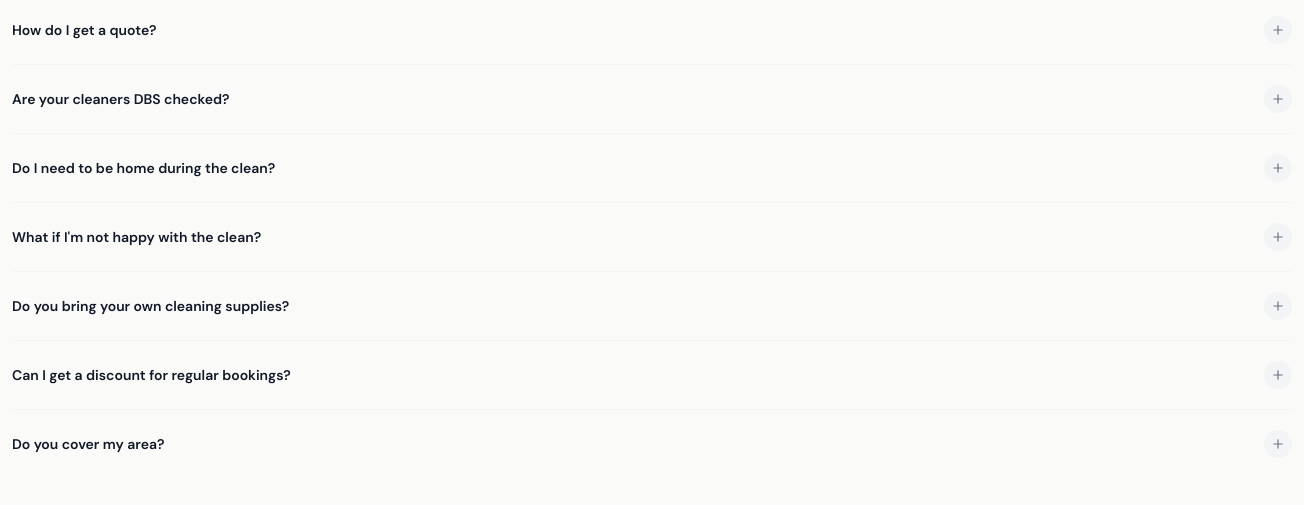
Scenario: FaqAccordion › collapses when clicked again
This screenshot has width=1304, height=505.
Click the button "How do I get a quote?": [84, 30] box left=12, top=16, right=1292, bottom=44
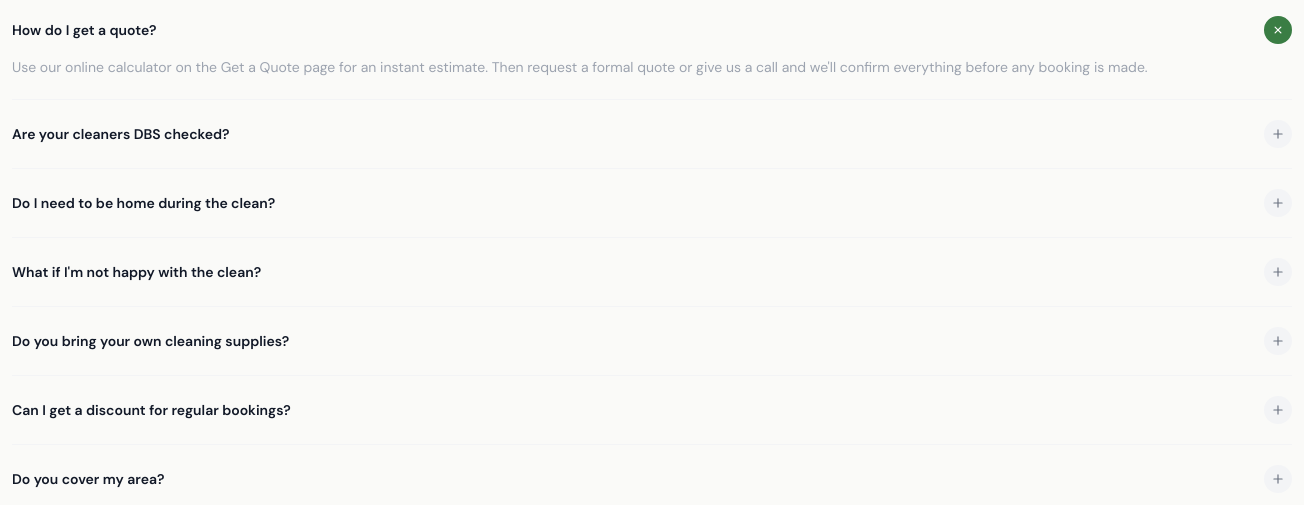
Click the button "How do I get a quote?": [84, 30] box left=12, top=16, right=1292, bottom=44
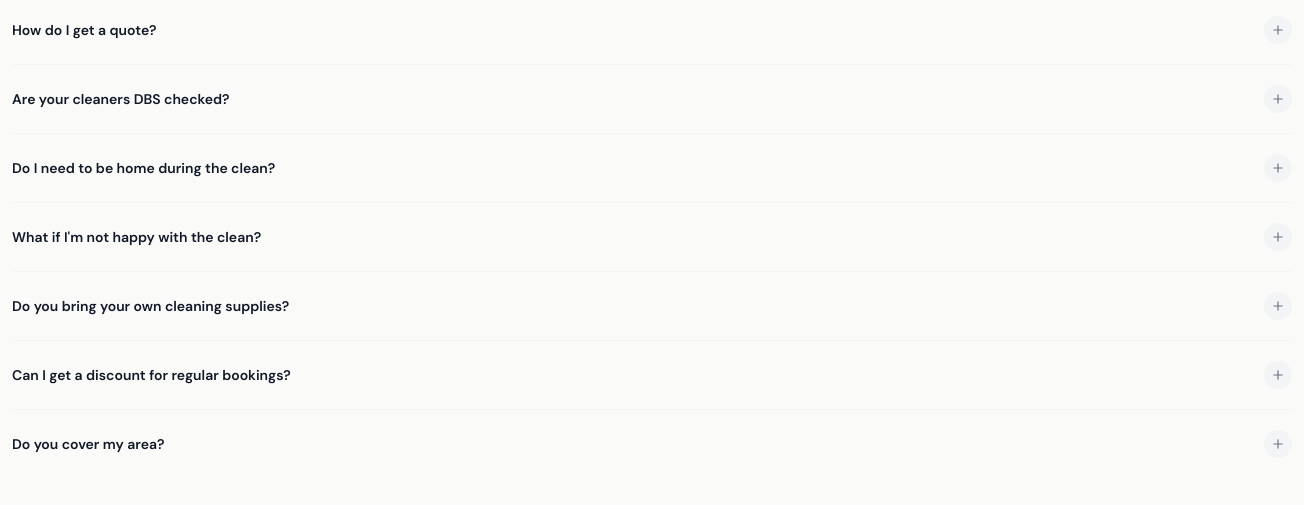
Expected: the button "How do I get a quote?" is collapsed, left=12, top=16, right=1292, bottom=44
